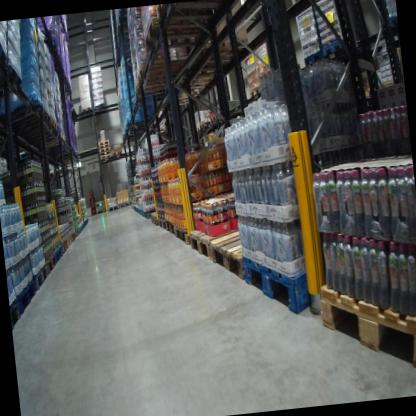pallet: (315, 266, 416, 383), (240, 245, 322, 330), (209, 215, 291, 286), (187, 219, 258, 267), (140, 14, 221, 56), (155, 0, 224, 31), (196, 35, 251, 69), (130, 69, 190, 100), (133, 55, 187, 84), (8, 98, 48, 132), (14, 274, 39, 314), (0, 61, 27, 96), (321, 36, 355, 63), (28, 264, 51, 299), (22, 117, 59, 137), (28, 132, 68, 150), (300, 48, 324, 72), (9, 296, 23, 333), (171, 224, 190, 251), (0, 26, 9, 67), (44, 251, 58, 275), (91, 100, 110, 114), (79, 104, 94, 120), (166, 218, 178, 237), (149, 209, 161, 227), (53, 244, 64, 262), (248, 85, 261, 100), (58, 240, 70, 256), (157, 214, 167, 233), (111, 149, 125, 160), (97, 137, 110, 146), (68, 232, 77, 245), (98, 154, 112, 162), (62, 234, 72, 245), (107, 203, 119, 212), (118, 199, 129, 208), (98, 150, 112, 157), (98, 147, 111, 154), (98, 145, 111, 151), (75, 226, 82, 236), (73, 229, 79, 238), (79, 222, 85, 230)
